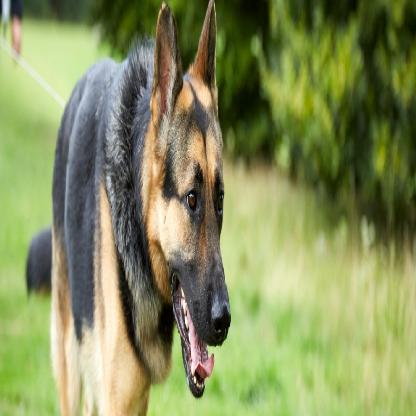german shepherd: (28, 3, 238, 416)
